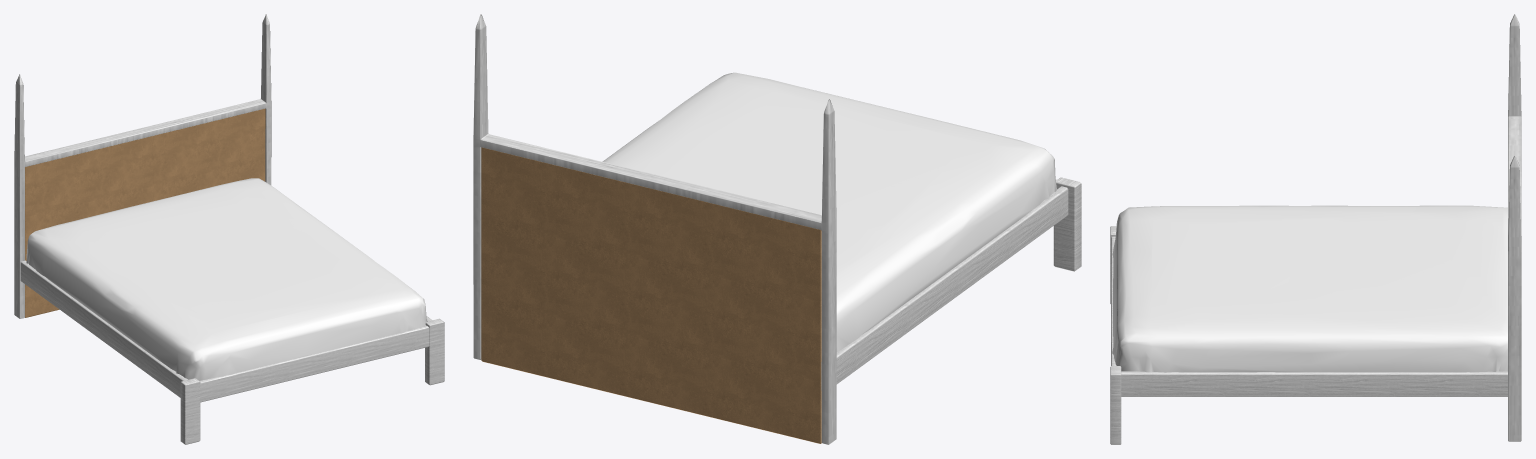
The model's file is bed_canopy.glb.
3 views of the same model, side by side, from view 1: azimuth 30°, elevation 25°; view 2: azimuth 150°, elevation 25°; view 3: azimuth 270°, elevation 25° (orthographic). The views are drawn at different scales.
Visible parts, largest first — view 1: bed_mattress_22, bed_22; view 2: bed_22, bed_mattress_22; view 3: bed_mattress_22, bed_22.
Boxes of the visible parts, bbox=[...] form: bed_mattress_22: bbox=[26, 178, 426, 380]; bed_22: bbox=[14, 14, 444, 444]; bed_22: bbox=[473, 14, 1081, 444]; bed_mattress_22: bbox=[602, 72, 1056, 351]; bed_mattress_22: bbox=[1112, 205, 1507, 372]; bed_22: bbox=[1110, 14, 1521, 444].
Size of the model in its own units: 1.91 by 1.71 by 2.23.
3 materials, 2 textured.
